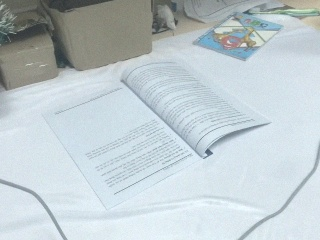book: (192, 13, 285, 64)
box: (37, 1, 153, 72), (1, 2, 59, 90)
